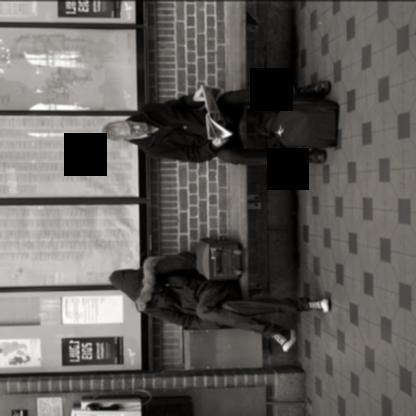backpack: (260, 97, 339, 151)
handbag: (269, 95, 338, 150)
suitcase: (194, 236, 242, 279)
